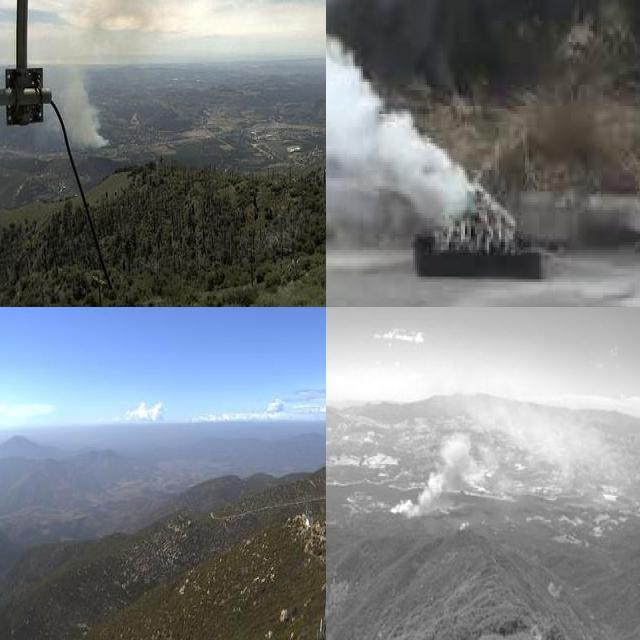smoke: (326, 0, 471, 236), (381, 394, 608, 522), (48, 0, 166, 148)
